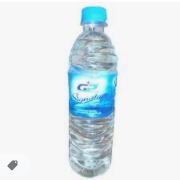Bottle: (68, 6, 115, 175)
